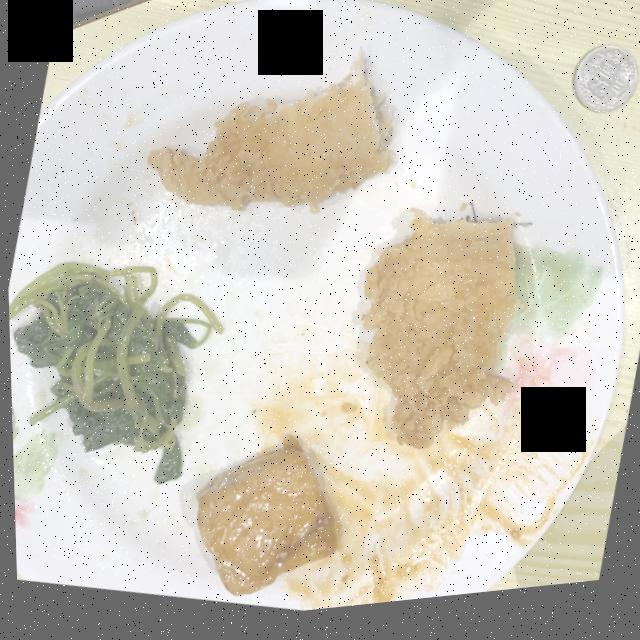coin: (571, 57, 637, 124)
creamy tofu: (192, 439, 334, 599)
fried chicken cutlet: (146, 59, 393, 216), (360, 218, 517, 457)
sweet potato leaves: (7, 262, 220, 486)
